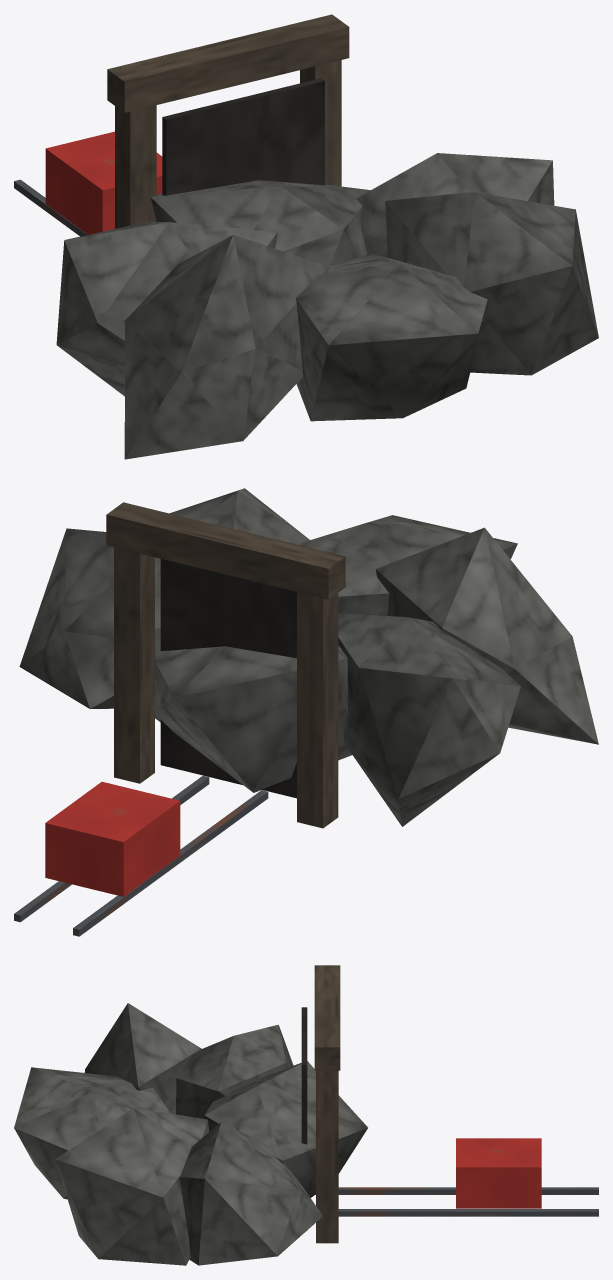
Rendered from SM_POI_MineEntrance_LOD1.fbx.
The picture shows the model from 3 angles, top to bottom: view 1: azimuth 30°, elevation 25°; view 2: azimuth 150°, elevation 25°; view 3: azimuth 270°, elevation 25°; orthographic projection. The views are drawn at different scales.
Visible parts, largest first — view 1: SM_POI_MineEntrance_LOD1; view 2: SM_POI_MineEntrance_LOD1; view 3: SM_POI_MineEntrance_LOD1.
Part boxes in pixels (<box>): SM_POI_MineEntrance_LOD1: <box>14,14,598,459</box>; SM_POI_MineEntrance_LOD1: <box>14,488,598,936</box>; SM_POI_MineEntrance_LOD1: <box>14,965,598,1265</box>.
Size of the model in its own units: 14.64 by 8.91 by 20.46.
Materials: 1 (1 with a texture image).
